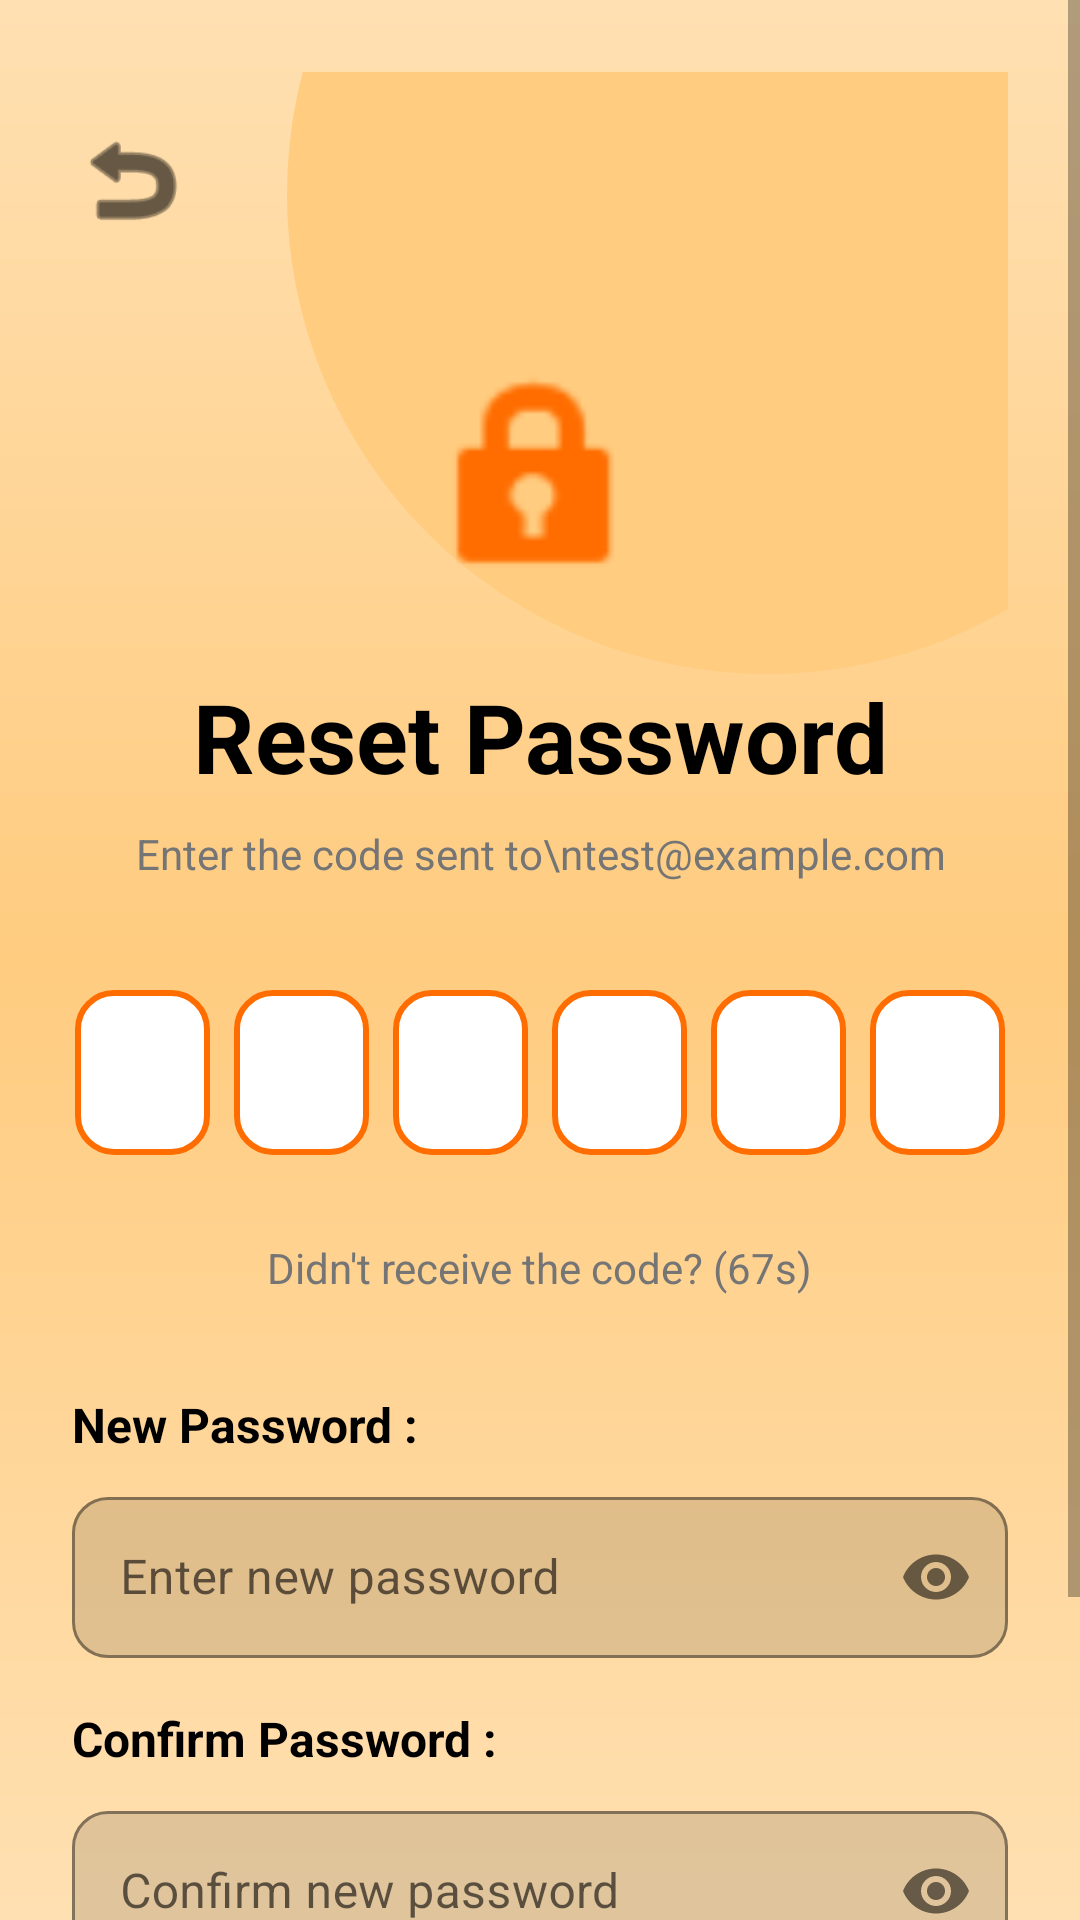

Screen size 1080*1920. Icon name, then its box in pixels as {"left": x1, "top": y1, "right": x2, "bottom": y2}:
Back: {"left": 90, "top": 141, "right": 177, "bottom": 220}
